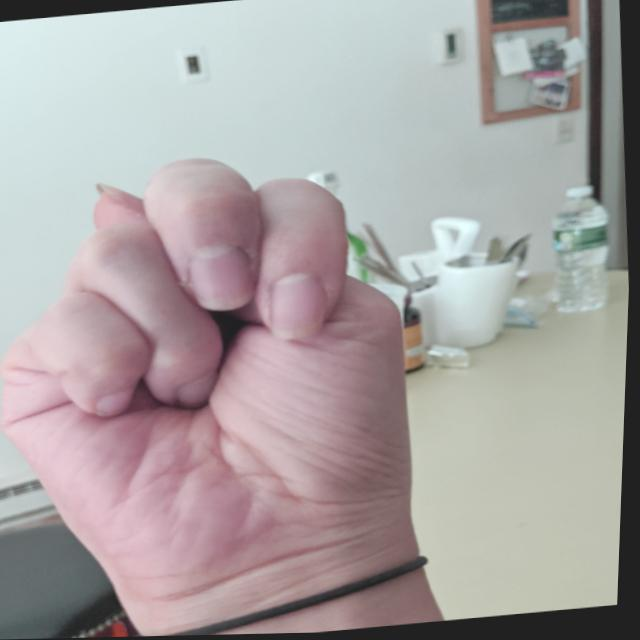N: (0, 133, 448, 636)
